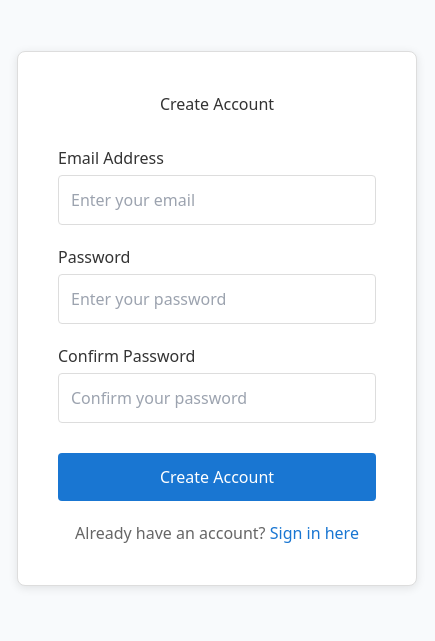
SignUpPage Integration › should handle network errors gracefully
The image size is (435, 641).
Expected: the heading "Create Account" is shown, [160,92,274,114]
Step 1. Type "test@example.com" into the field labelled "Email Address" → (217, 200), box [58,174,376,224]
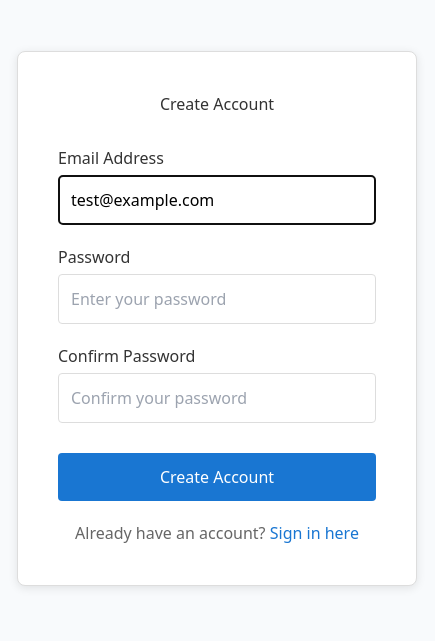
Step 2. Type "Password123" into the password field labelled "Password" → (217, 298), box [58,274,376,324]
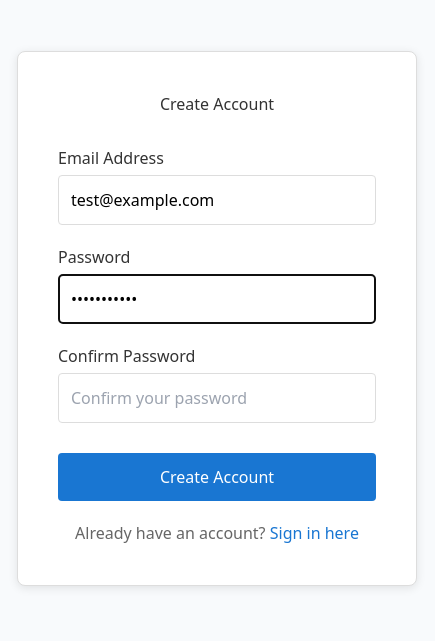
Step 3. Type "Password123" into the password field labelled "Confirm Password" → (217, 398), box [58,372,376,422]
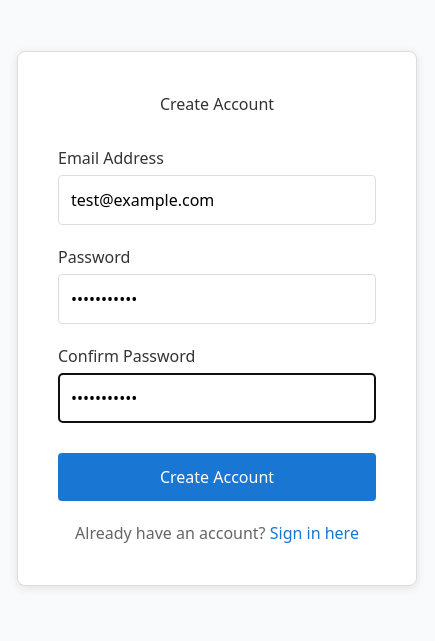
Step 4. Click the button "Create Account" → (217, 476), box [58,452,376,500]
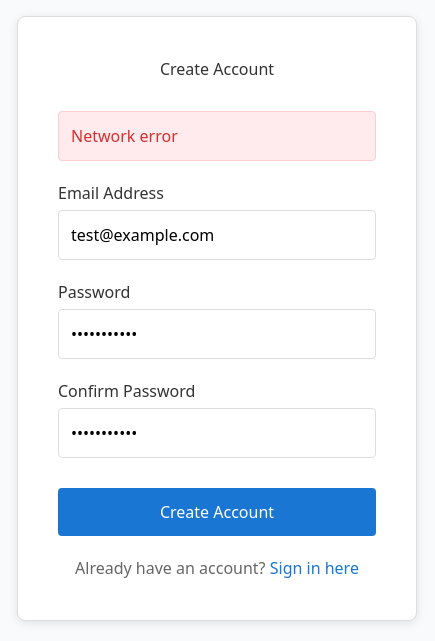
Now the text "Network error" is shown, box [58,110,376,160]
